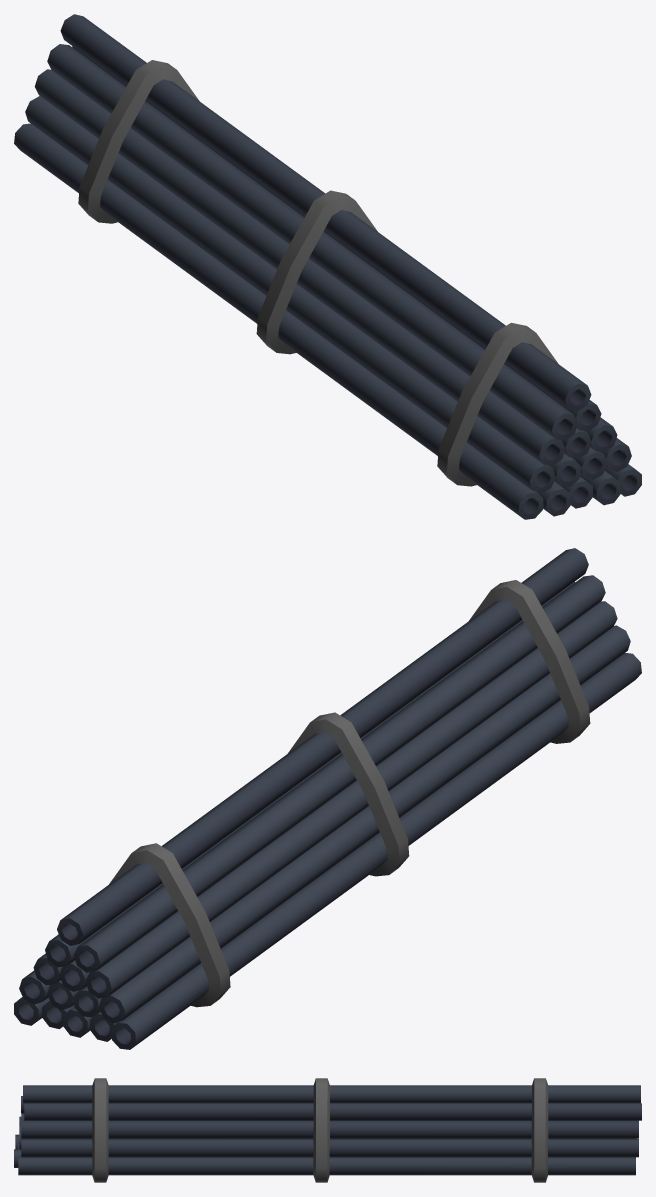
File: Pipes_C_3_3.glb
The picture shows the model from 3 angles, top to bottom: view 1: azimuth 30°, elevation 25°; view 2: azimuth 150°, elevation 25°; view 3: azimuth 270°, elevation 25°; orthographic projection. The views are drawn at different scales.
Visible parts, largest first — view 1: Pipes_C_3_3; view 2: Pipes_C_3_3; view 3: Pipes_C_3_3.
Boxes of the visible parts, x1,y1,x2,y2 form: Pipes_C_3_3: [14, 14, 641, 519]; Pipes_C_3_3: [14, 548, 641, 1049]; Pipes_C_3_3: [14, 1078, 641, 1182].
Size of the model in its own units: 0.9026 by 0.874 by 5.6.
1 material, 1 textured.
